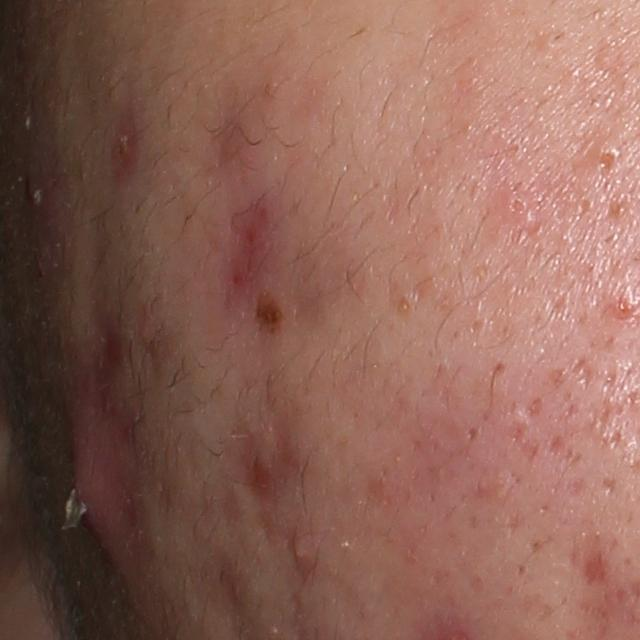atrophic_scar: (198, 180, 297, 352), (217, 410, 311, 545), (70, 172, 127, 365)
comedo: (589, 138, 624, 177), (501, 192, 533, 222)
nodule: (56, 386, 135, 585)
papule: (107, 126, 136, 172), (286, 529, 320, 567)
